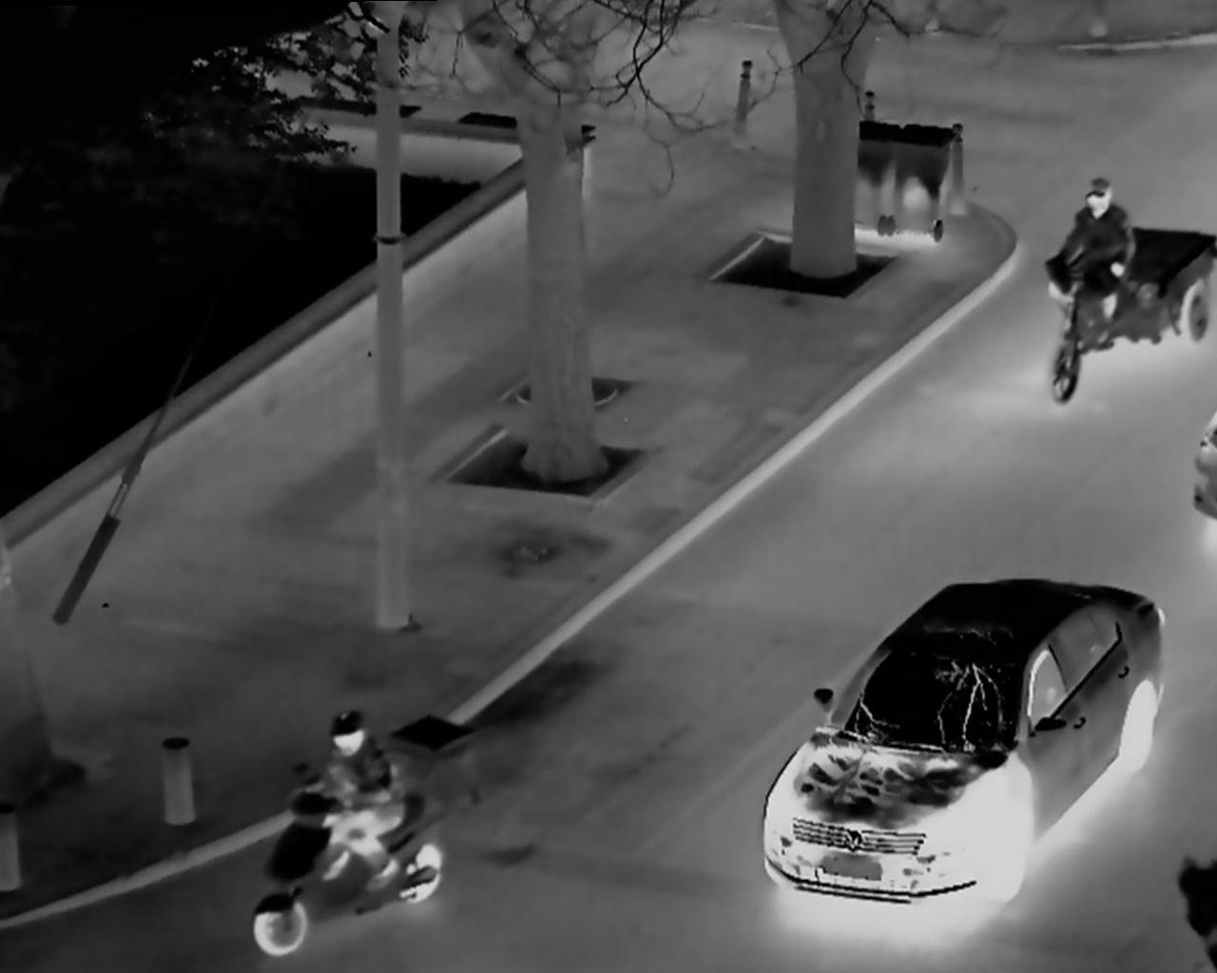person: (279, 699, 411, 913), (1054, 168, 1140, 369)
